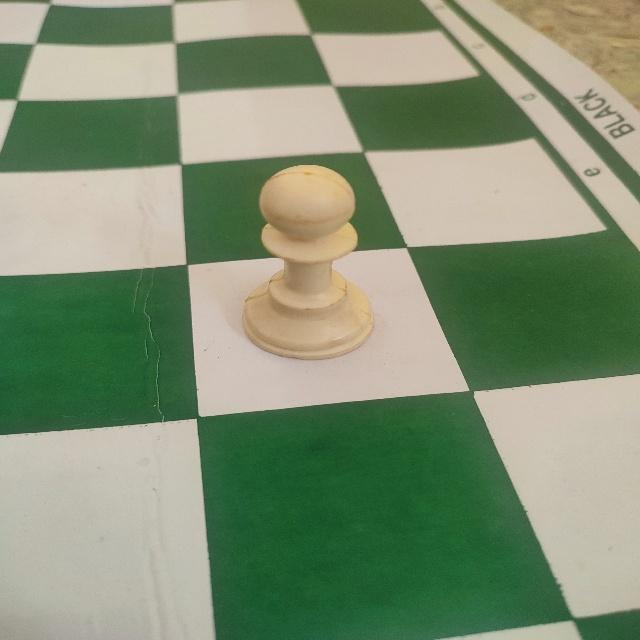Pawn: (239, 161, 377, 363)
